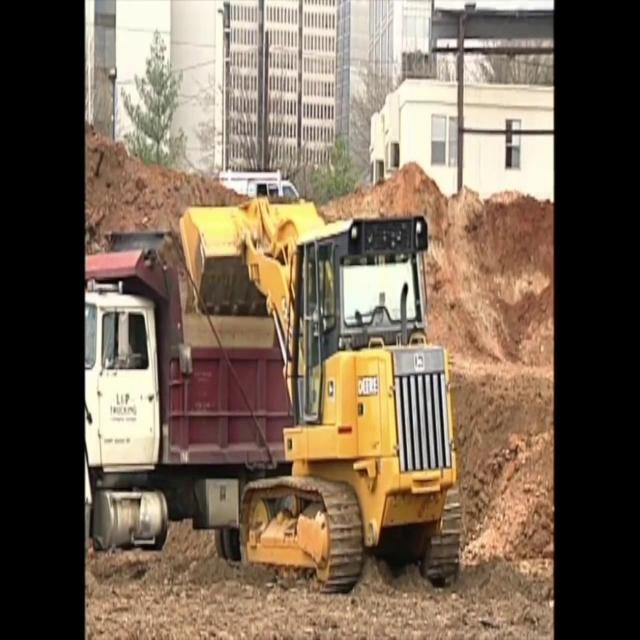Dump Truck: (85, 227, 304, 569)
Loader: (181, 191, 463, 598)
